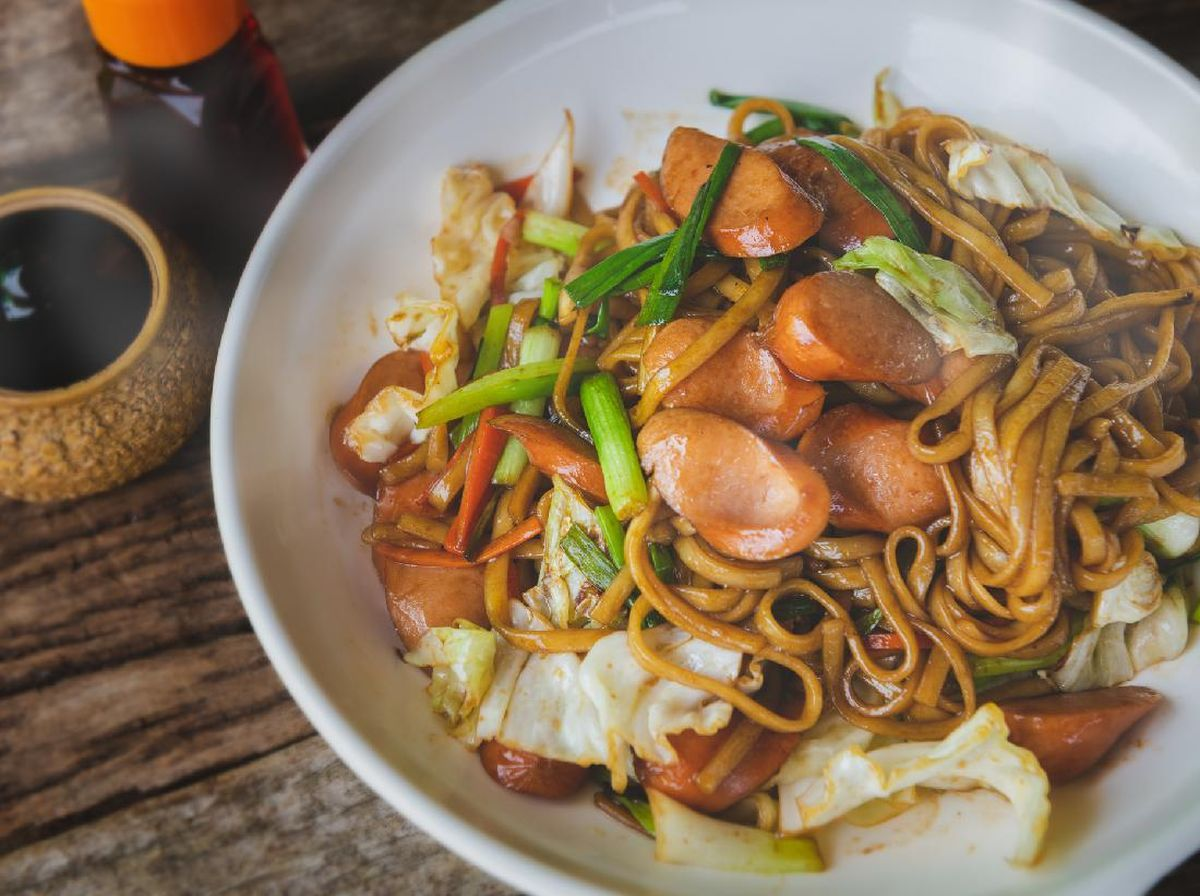Mie: (284, 45, 1143, 864)
